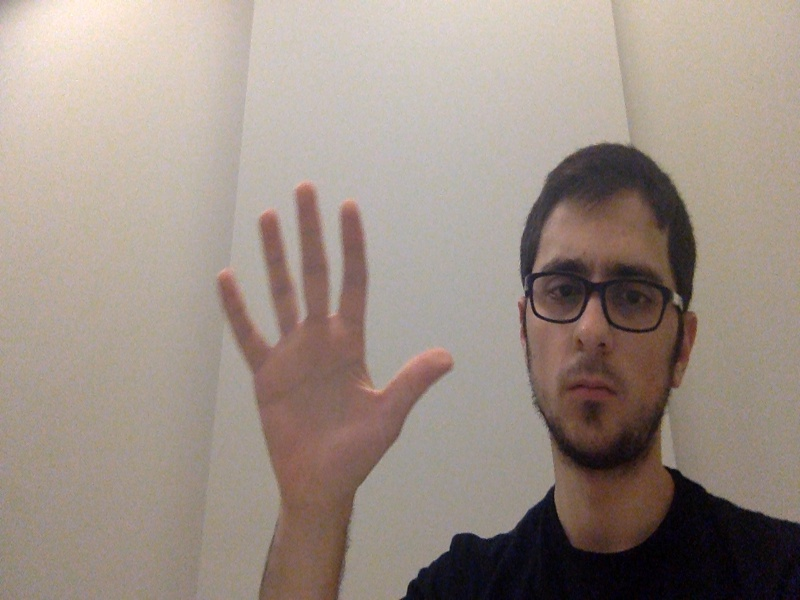5-hand: (215, 182, 451, 508)
